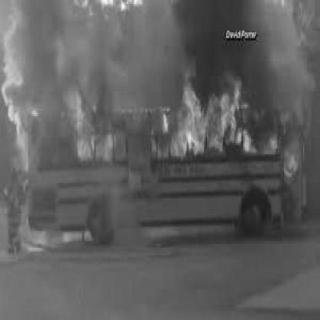Fire: (258, 121, 280, 158)
